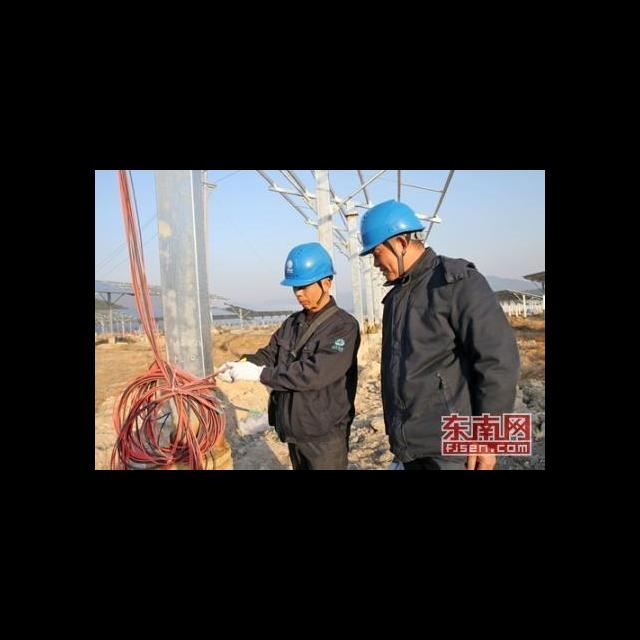Gloves: (224, 359, 267, 382), (218, 363, 235, 382)
Hardhat: (354, 201, 427, 256), (278, 242, 335, 286)
NO-Mask: (381, 265, 406, 279), (299, 296, 319, 309)
NO-Safety Vest: (385, 271, 481, 452), (276, 314, 354, 430)
Person: (366, 202, 521, 470), (217, 242, 361, 470)
